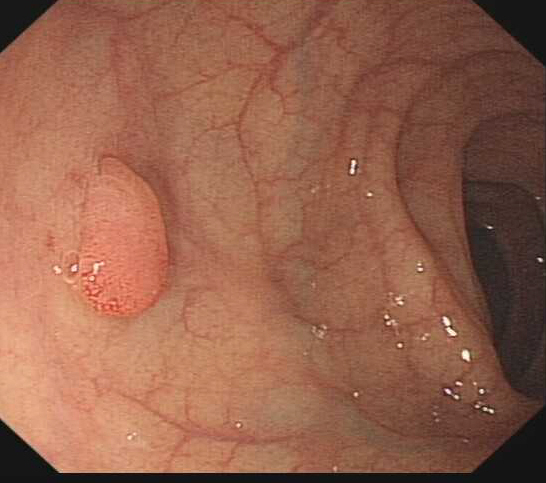adenoma: (69, 153, 172, 320)
